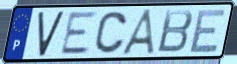A: (120, 7, 158, 57)
B: (155, 8, 196, 54)
C: (93, 10, 129, 56)
E: (58, 10, 100, 57), (187, 7, 228, 55)
V: (37, 9, 66, 59)
